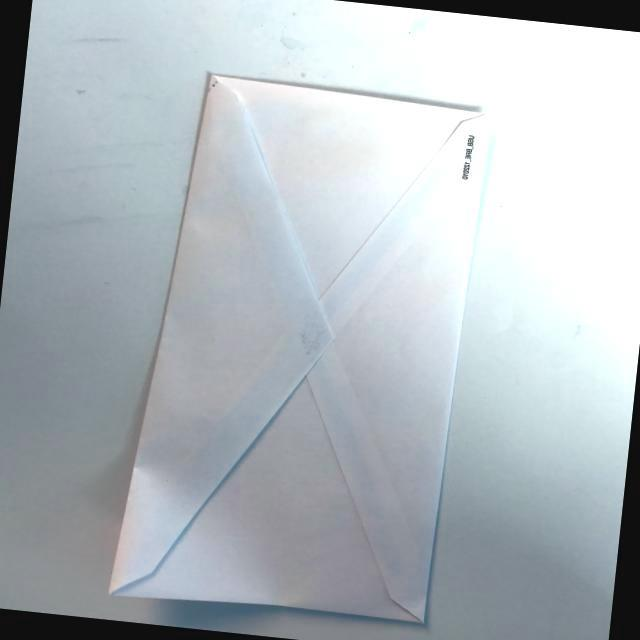paper: (96, 58, 501, 638)
